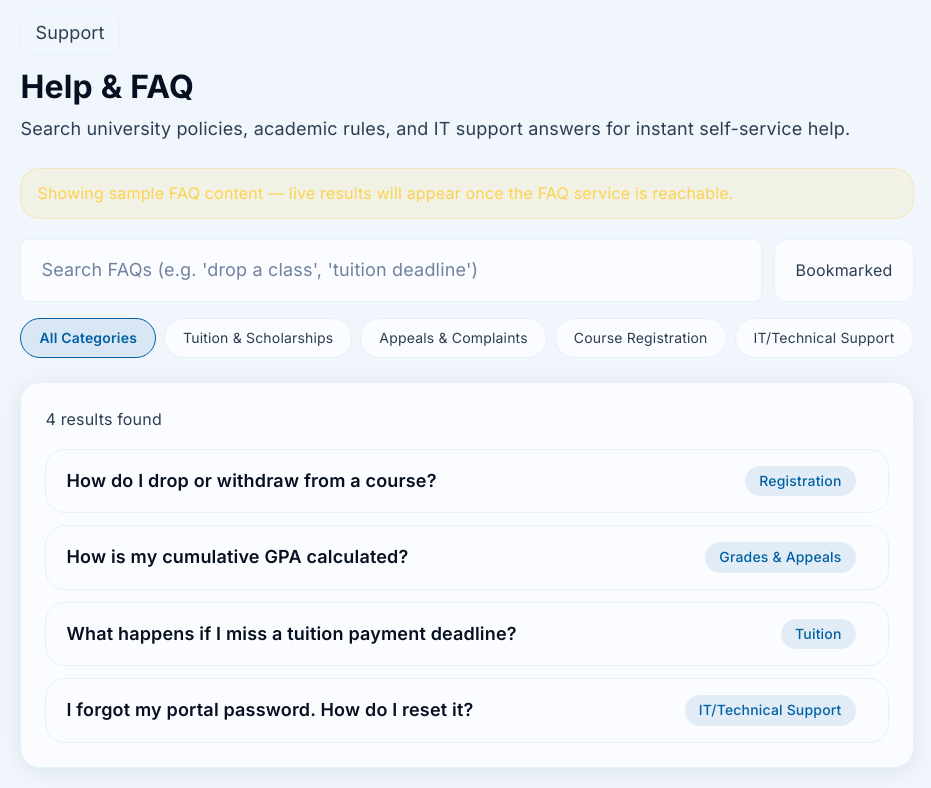
Test: FG06 - Centralized FAQ Access › TC_FAQ_04: enter xyz_khong_ton_tai_abc -> displays No results found
In the field with placeholder "Search FAQs (e.g. 'drop a class', 'tuition deadline')": (391, 271) [20,239,762,302], type "xyz_khong_ton_tai_abc"
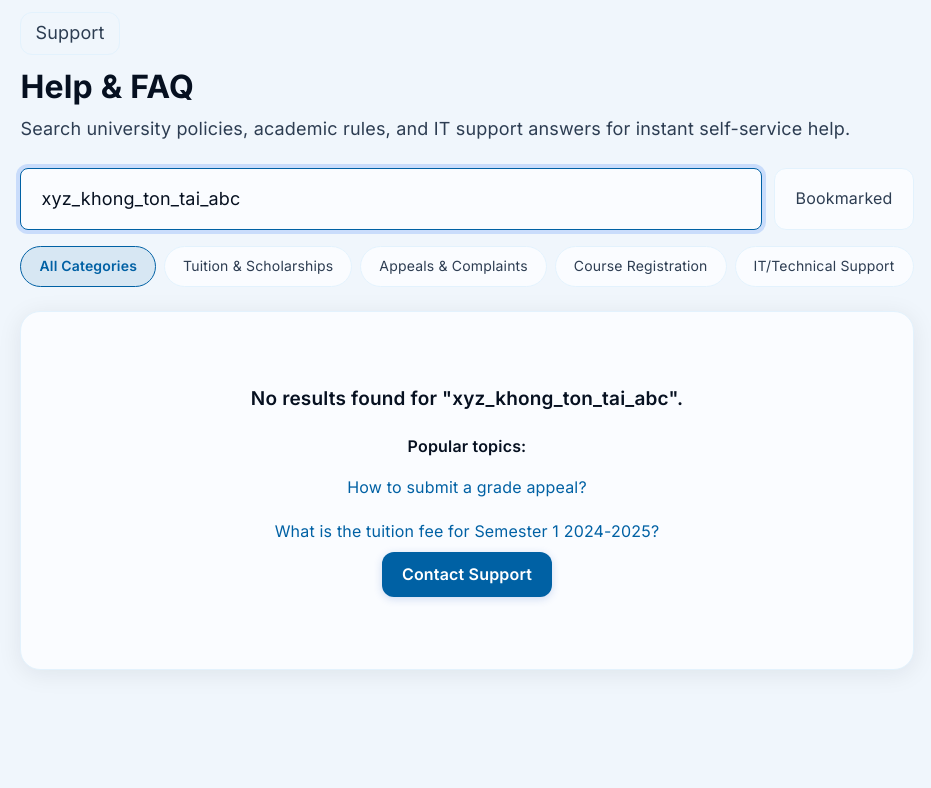
Expected: the text "No results found for \"xyz_khong_ton_tai_abc\"." is shown, [251,387,683,410]
